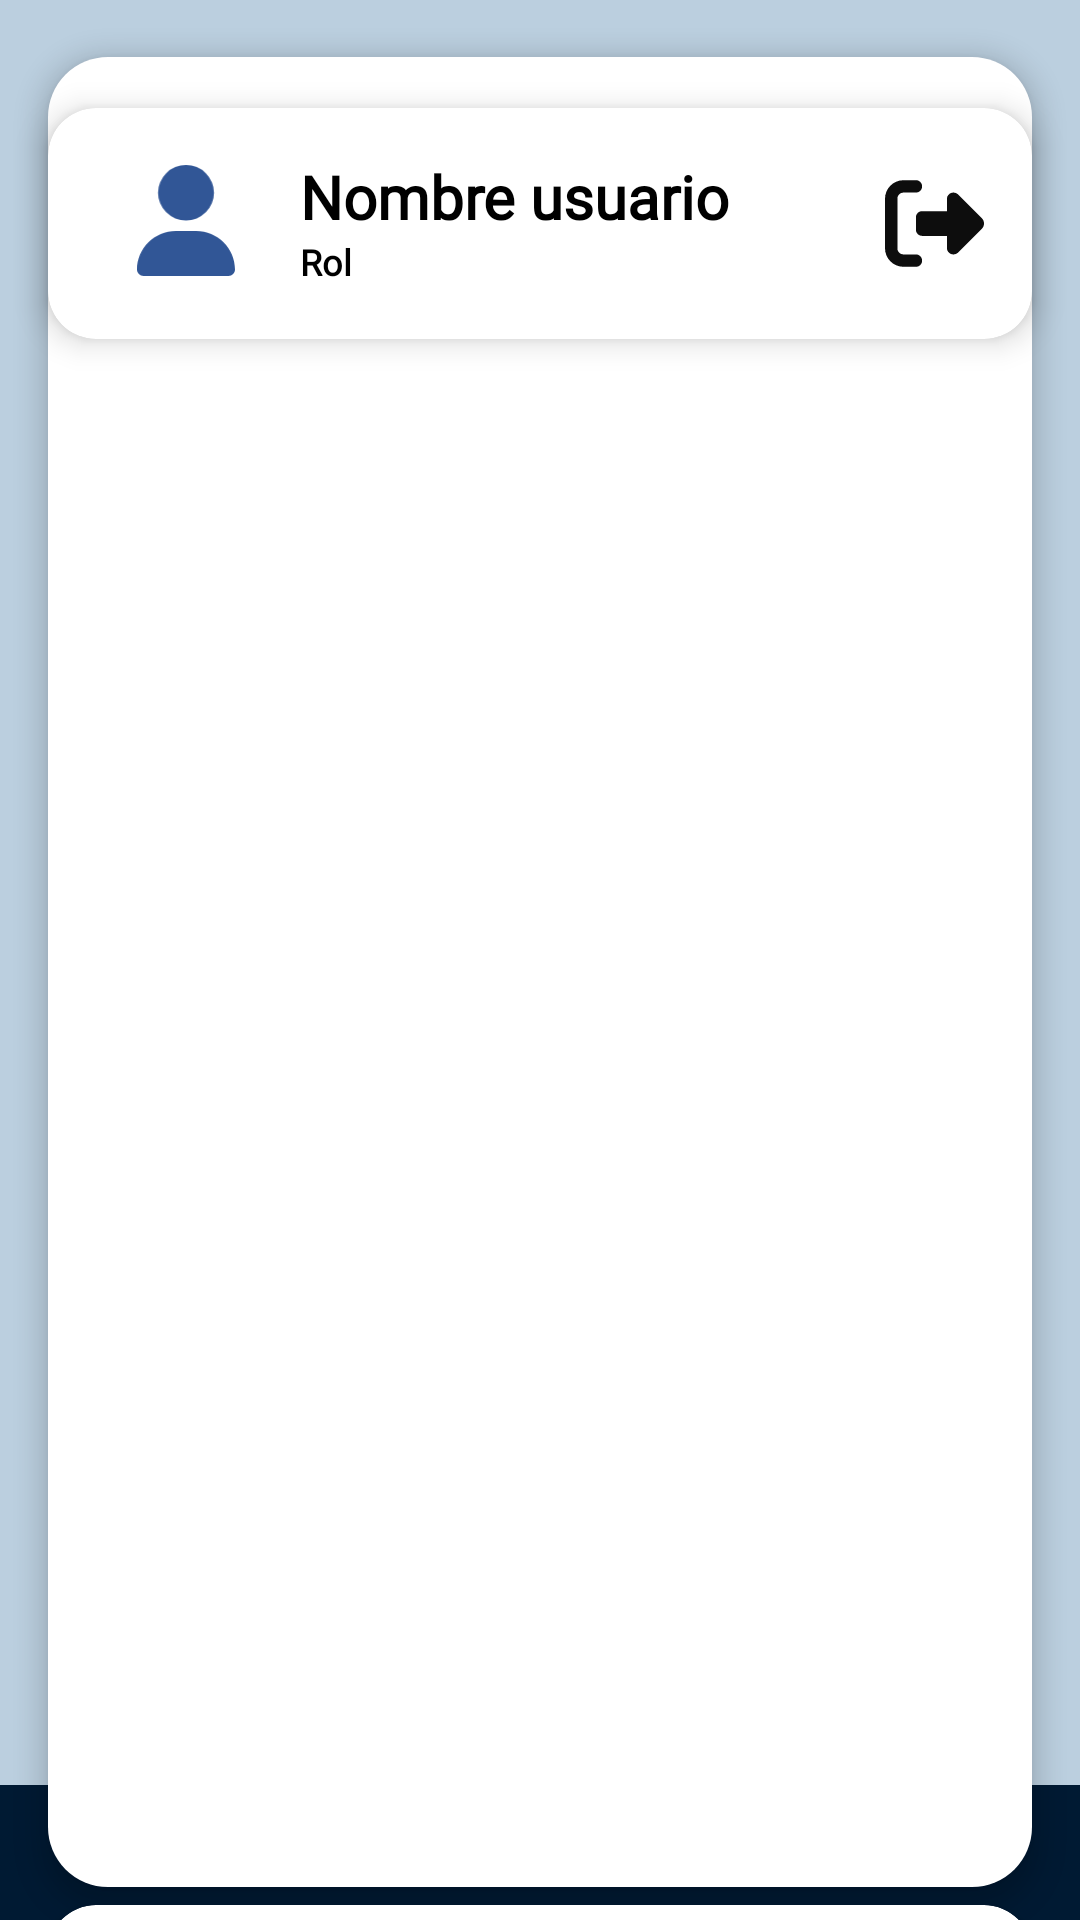

Named icons in this screenshot (1080px×1920px) and their centers, (x,y):
exit: (934,223)
user: (186,220)
